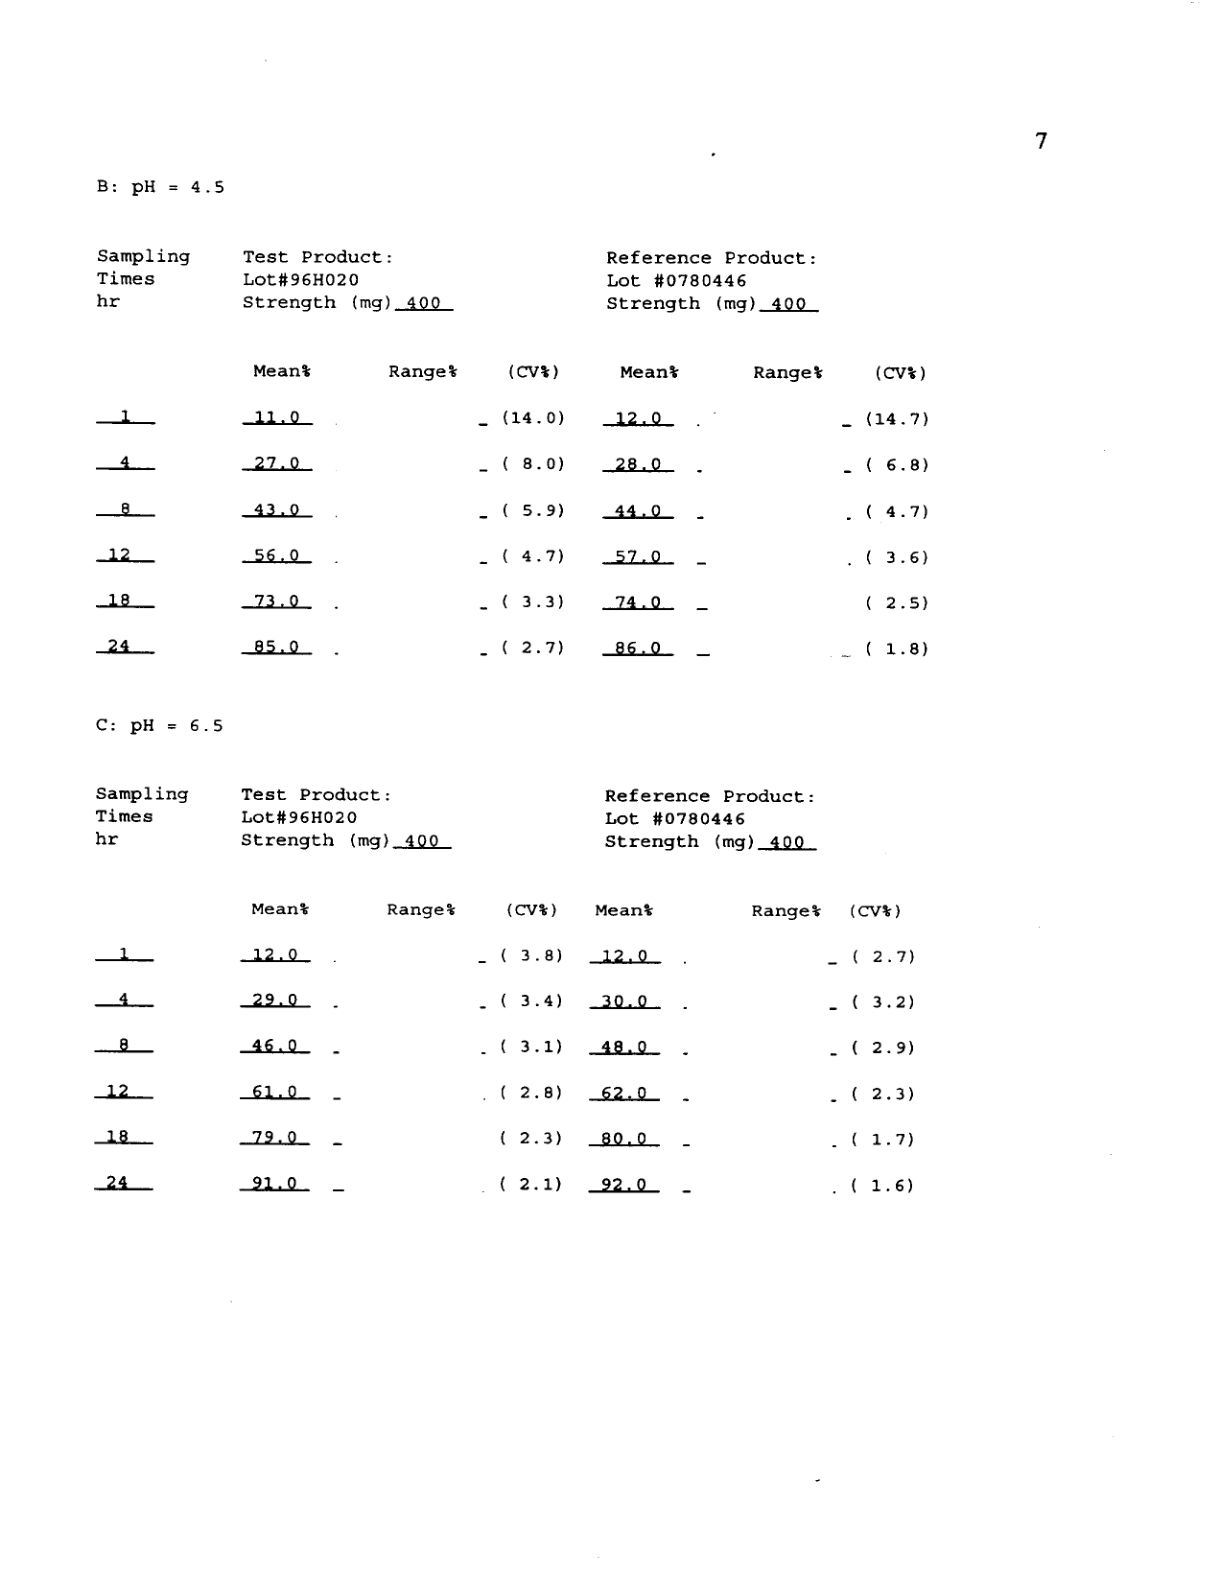nolines: (86, 779, 923, 1202), (92, 246, 933, 663)
